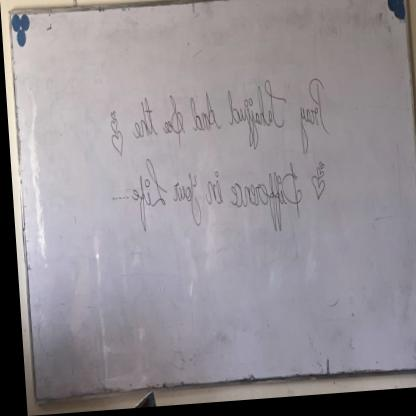Handwritten text: (129, 69, 335, 162), (126, 152, 298, 239)
Whiteboard: (6, 0, 416, 404)
